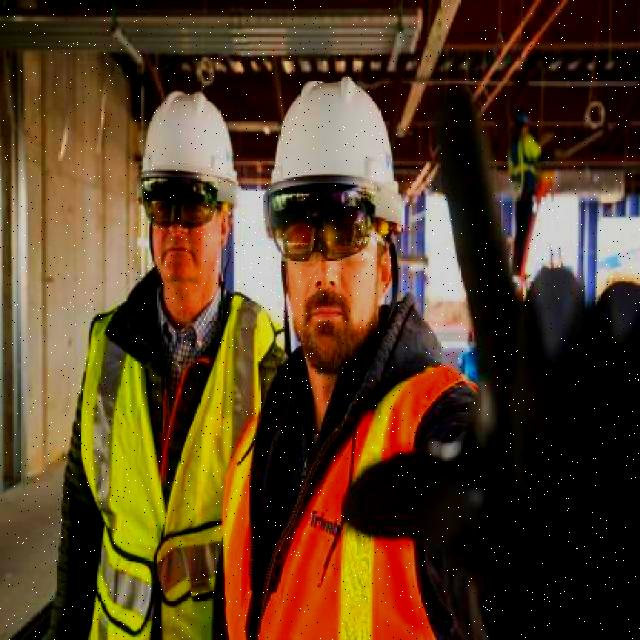Gloves: (420, 135, 634, 632)
Helmet: (256, 71, 409, 194), (138, 88, 234, 186)
Mask: (230, 363, 462, 640), (82, 296, 226, 639)
